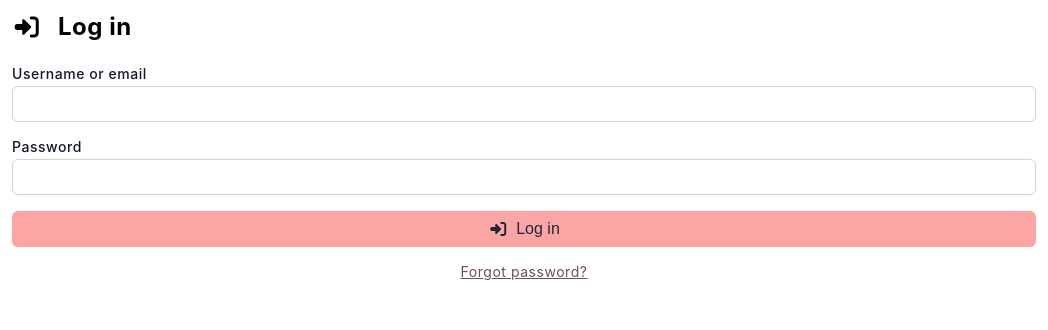
LoginView › shows the email-not-verified message on a 403
Type "alice" into the field labelled "Username or email" at coordinates (524, 104), box [12,86,1036,122]
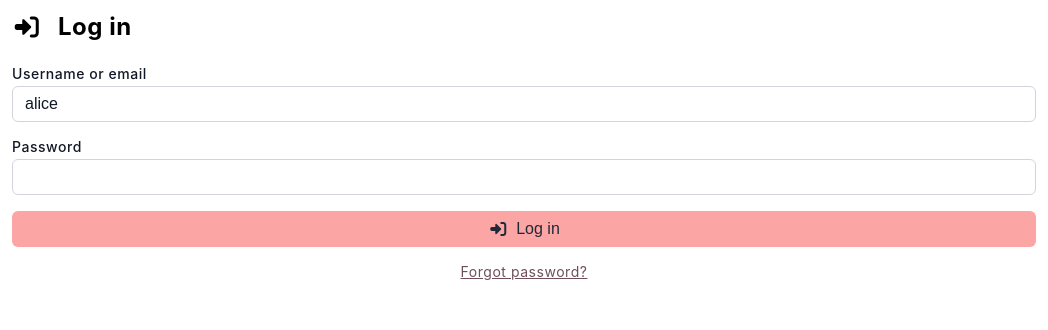
Type "secret" into the password field labelled "Password" at coordinates (524, 177), box [12,159,1036,195]
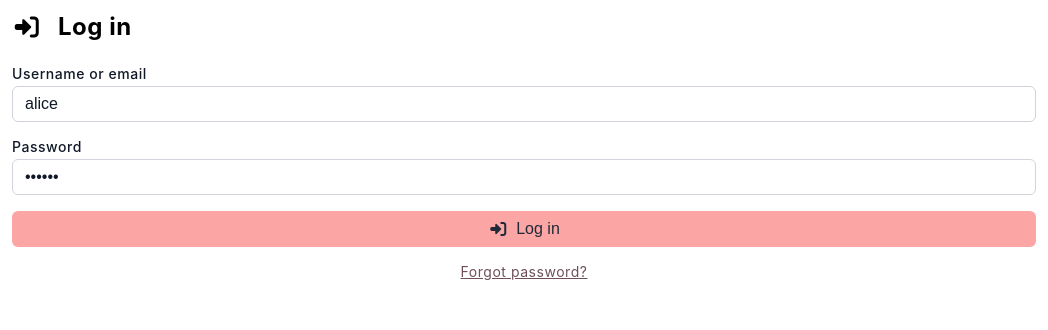
Submit the form
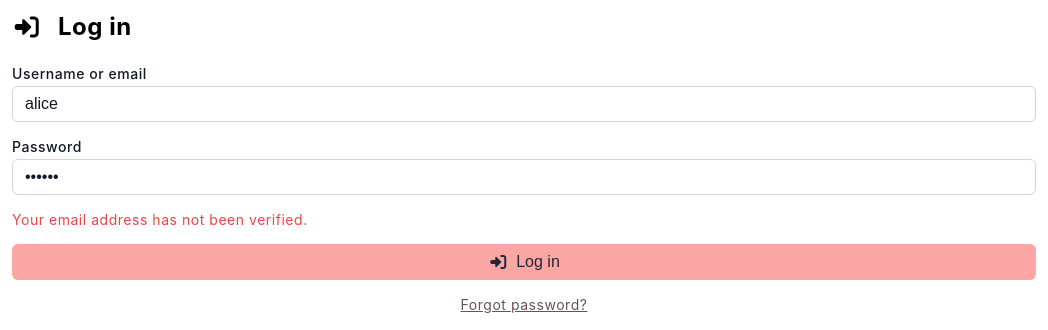
Check: the form shows "Your email address has not been verified.", box [12,211,308,228]
